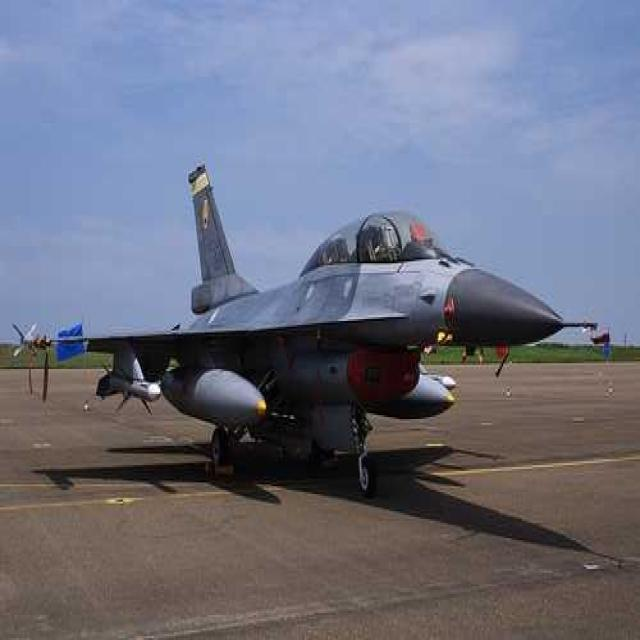missile: (157, 341, 268, 441), (90, 338, 161, 434)
